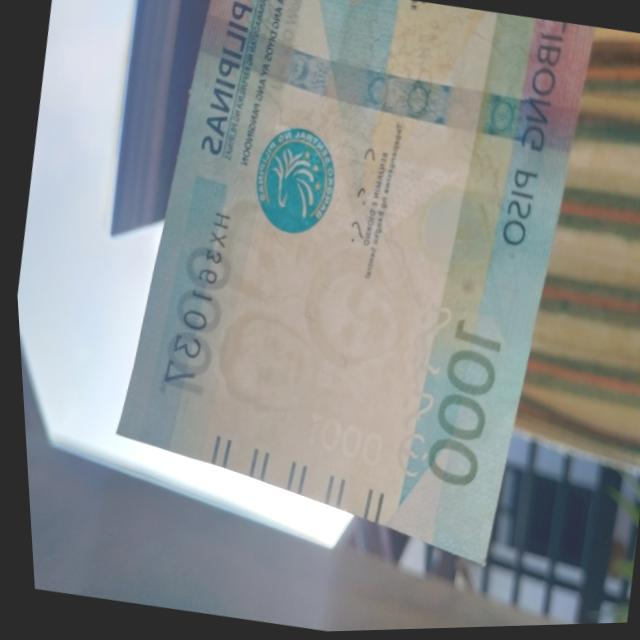security_thread: (183, 0, 591, 169)
see_through_mark: (376, 298, 463, 508)
serial_number: (145, 202, 243, 396)
value_watermark: (285, 406, 390, 470)
watermark: (174, 183, 440, 447)
